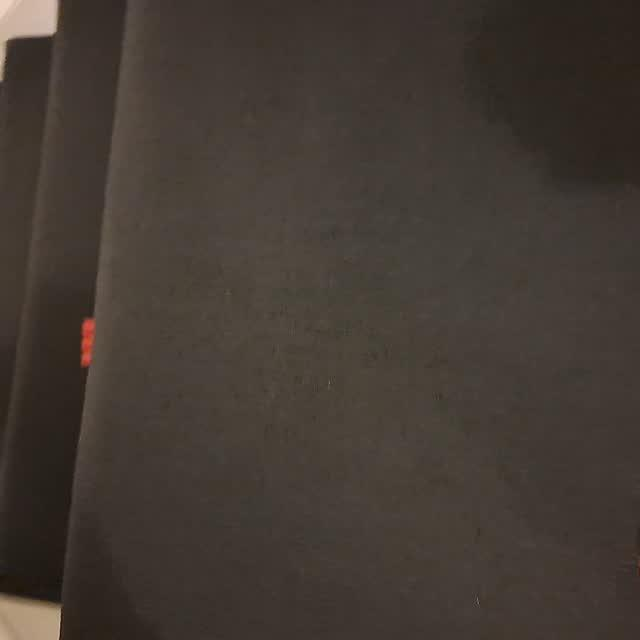rubix_cube: (74, 313, 136, 372)
